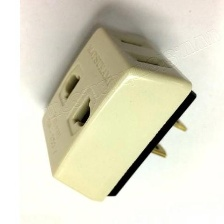three_eye_plug: (40, 19, 200, 205)
